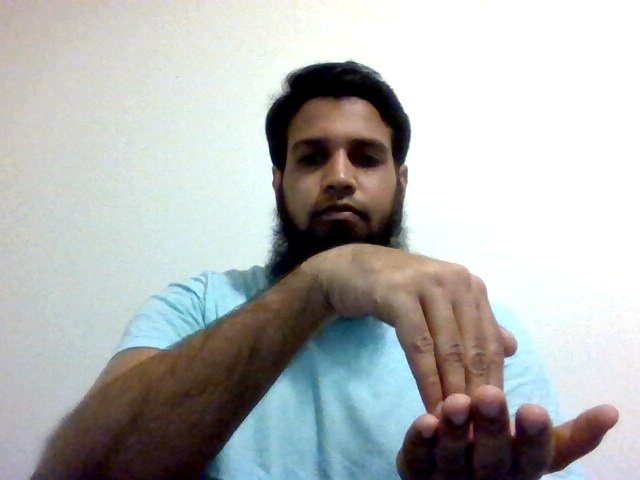again: (301, 238, 619, 477)
